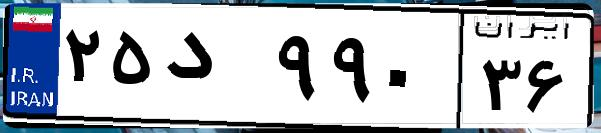0: (385, 28, 445, 110)
2: (57, 26, 110, 100)
3: (475, 38, 525, 113)
5: (110, 28, 158, 98)
6: (525, 38, 570, 115)
9: (270, 28, 330, 110), (330, 28, 385, 110)
د: (158, 20, 270, 120)
